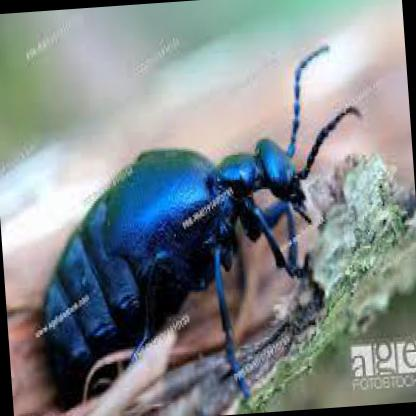blister beetle: (42, 48, 358, 416)
